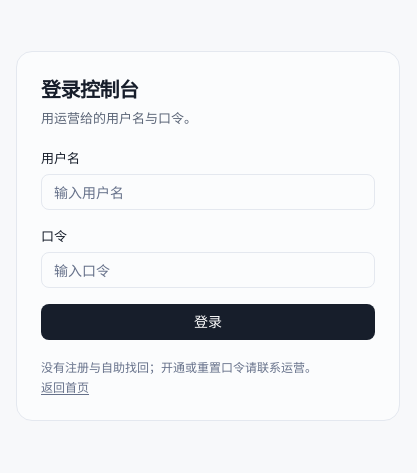
Test: 登录页 › 网络或服务端出错时走通用错误文案
Type "alice" into the field labelled "用户名" at {"x": 208, "y": 192}, box [41, 174, 375, 210]
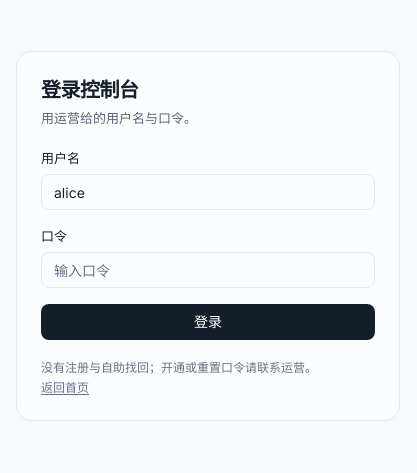
Type "secret" into the password field labelled "口令" at {"x": 208, "y": 270}, box [41, 252, 375, 288]
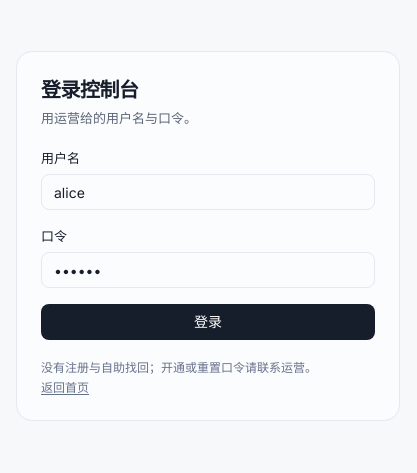
Click the button "登录" at {"x": 208, "y": 322}, box [41, 304, 375, 340]
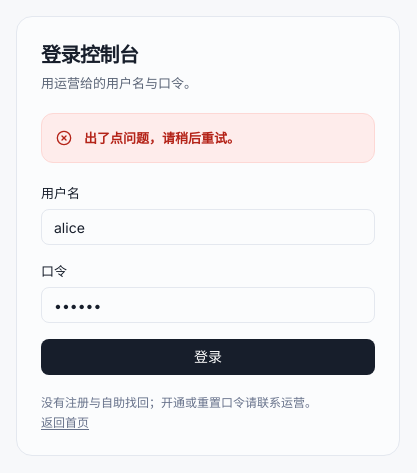
Expected: the text "出了点问题，请稍后重试。" is shown, [84, 130, 240, 146]
